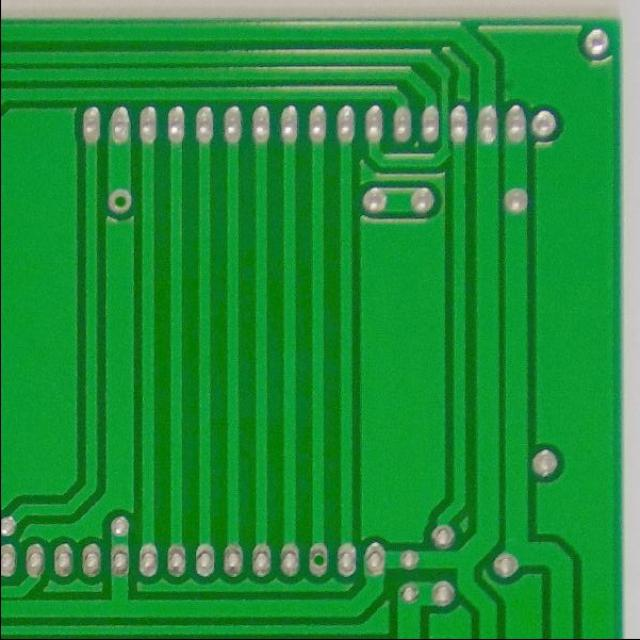Missing_Hole: (302, 540, 332, 576), (104, 184, 136, 215)
